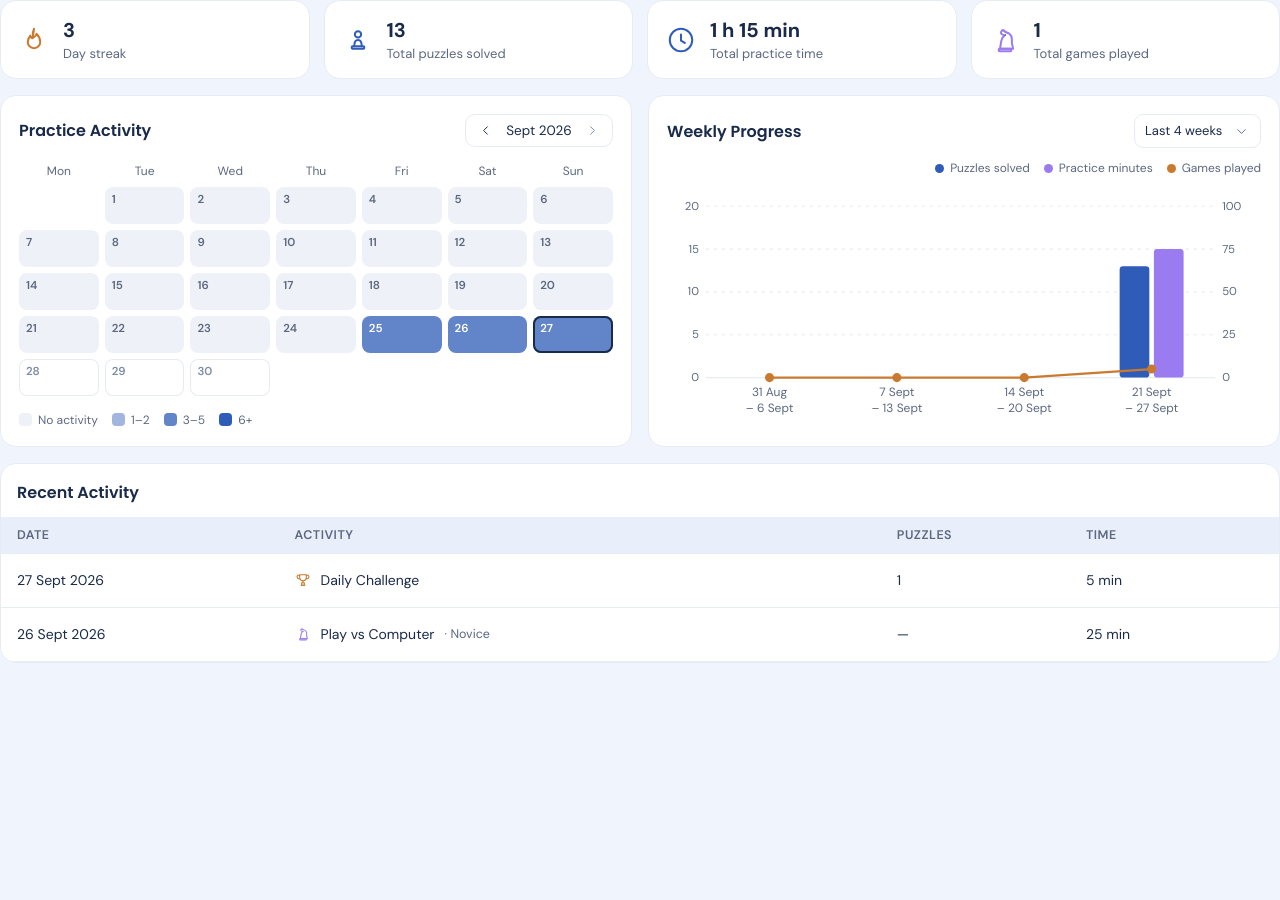
Test: the practice tab › says so on a day with no practice
Hover over the cell "20".
mouse_move(573, 292)  # box [533,273,613,310]
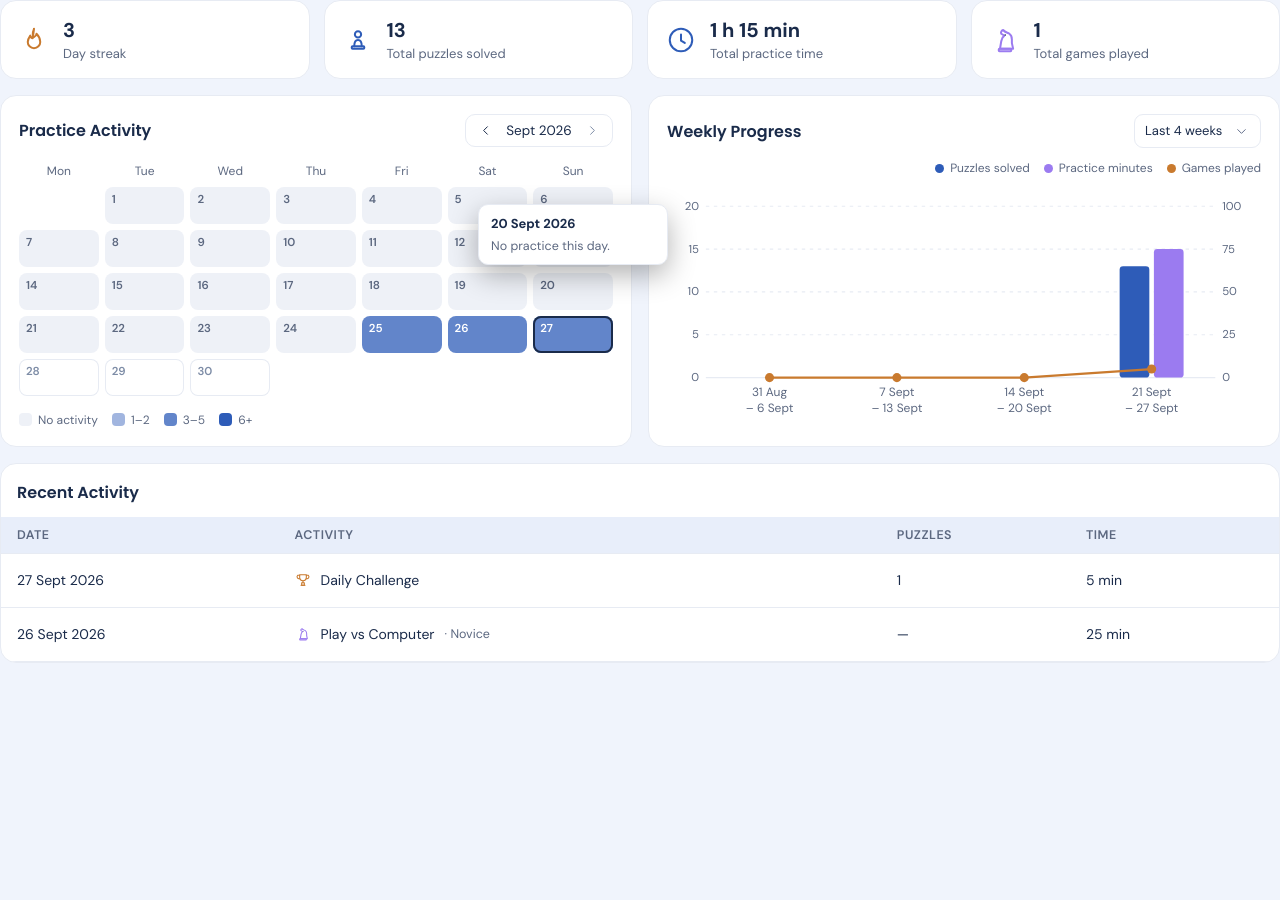
Now the text "No practice this day." is shown, box [491,238,610,254]
